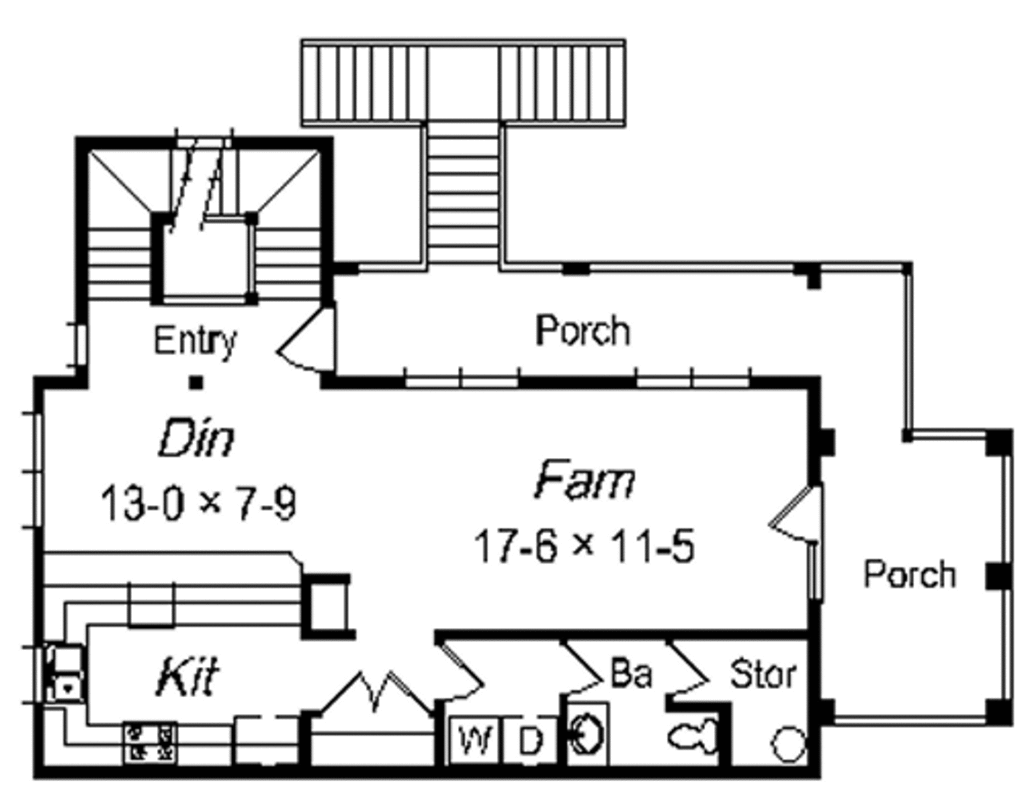door: (321, 662, 431, 720), (276, 300, 348, 376), (431, 640, 490, 705), (540, 639, 605, 694), (770, 476, 826, 537), (666, 640, 724, 697)
large_sink: (658, 715, 715, 759)
small_sink: (565, 710, 611, 769)
stairs: (309, 21, 633, 252), (211, 141, 321, 295), (85, 145, 161, 300)
